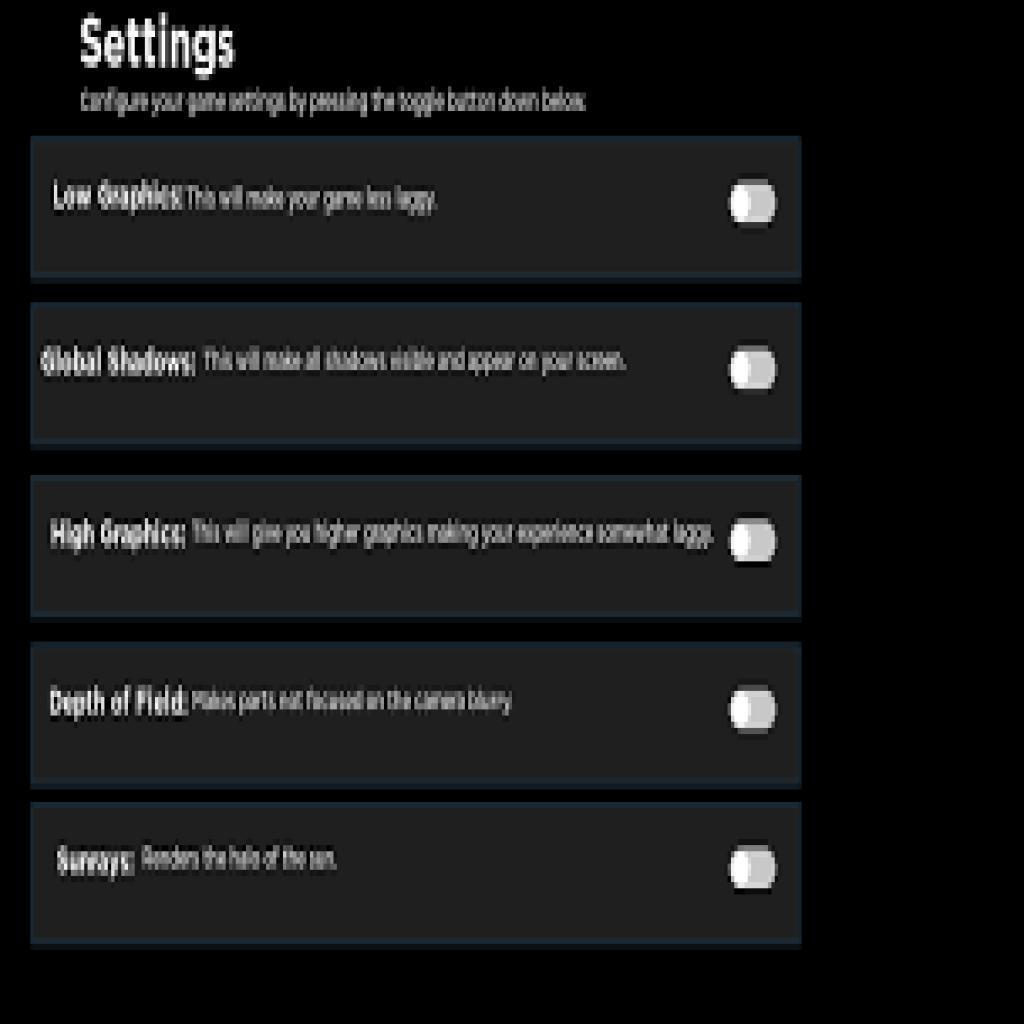switch: (725, 168, 783, 237), (727, 339, 783, 403), (727, 837, 781, 902), (727, 515, 786, 571), (728, 688, 783, 738)
